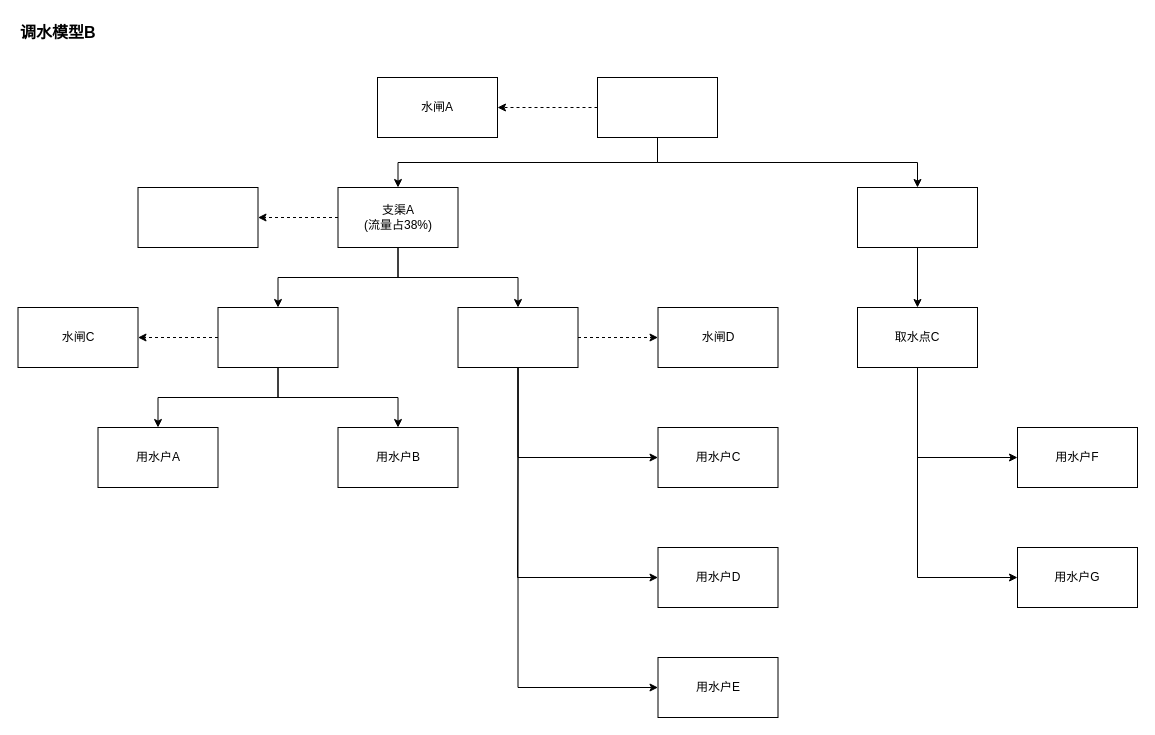
Image size: 1155x735. Some labels were removed from this diagram. The centre of each missing label's shape, as x and y in pixels:
取水点A: pixel 277 337
取水点B: pixel 517 337
支渠B (流量占62%): pixel 917 217
水闸B: pixel 197 217
河流: pixel 657 107
